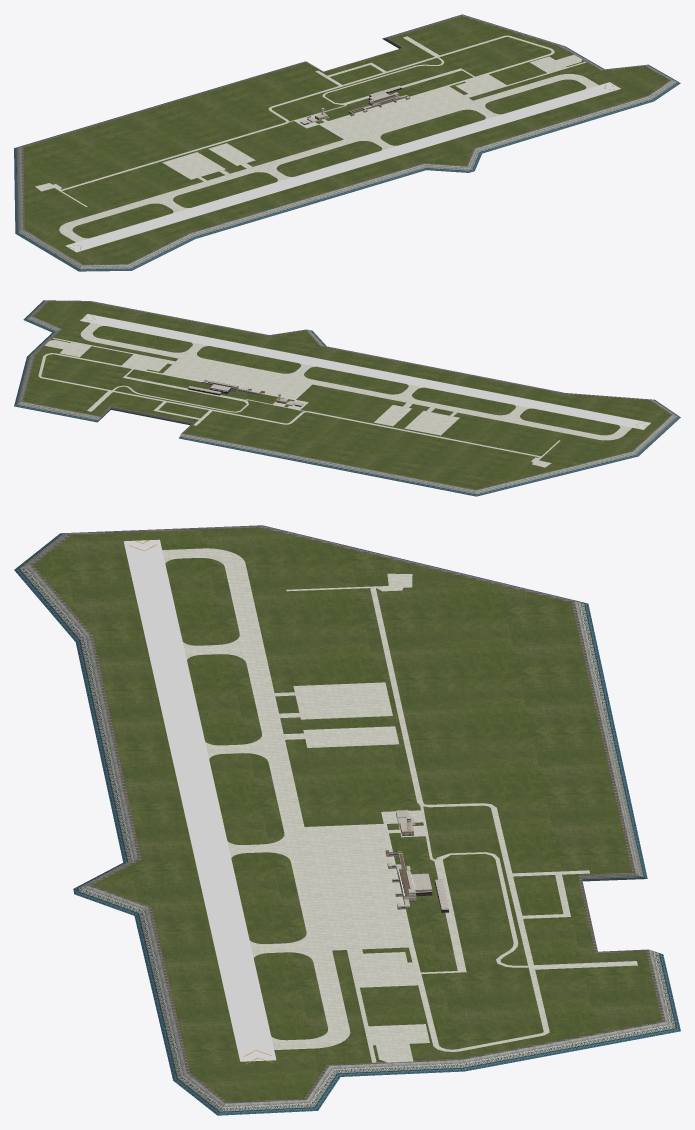
The model's file is kobe_1to1.fbx.
The picture shows the model from 3 angles, top to bottom: view 1: azimuth 30°, elevation 25°; view 2: azimuth 150°, elevation 25°; view 3: azimuth 270°, elevation 25°; orthographic projection. The views are drawn at different scales.
Visible parts, largest first — view 1: Plane.002, Plane.001, Plane.003, Rw4-22, Plane, Cube; view 2: Plane.002, Plane.001, Plane.003, Rw4-22, Plane, Cube, Runway_marking.003; view 3: Plane.002, Plane.001, Plane.003, Rw4-22, Plane, Cube, Runway_marking.003.
Part boxes in pixels (x1,y1,x2,y2): Plane.002: (23,16,668,264); Plane.001: (35,35,598,242); Plane.003: (14,14,680,271); Rw4-22: (65,82,620,252); Plane: (21,15,671,265); Cube: (300,85,410,124); Plane.002: (23,301,670,489); Plane.001: (38,323,631,467); Plane.003: (14,300,680,496); Rw4-22: (80,314,650,429); Plane: (21,300,672,490); Cube: (188,379,303,406); Runway_marking.003: (93,317,637,426); Plane.002: (33,527,661,1102); Plane.001: (162,548,637,1062); Plane.003: (14,525,680,1115); Rw4-22: (123,539,276,1061); Plane: (30,526,665,1103); Cube: (385,810,448,912); Runway_marking.003: (130,551,269,1050).
Bounding box in the file's own units: 296387 × 4957 × 141508.
